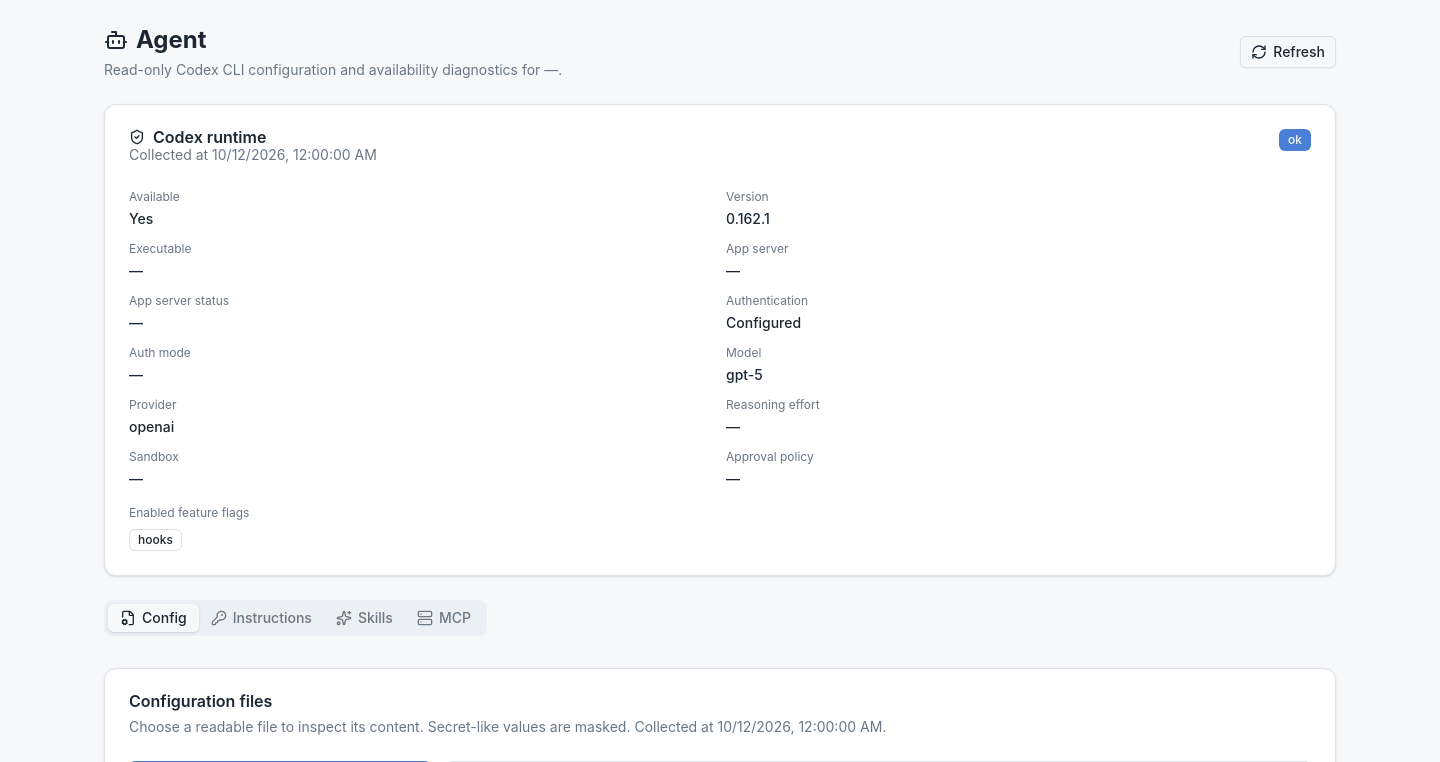
Scenario: CodexDiagnosticsPage › shows diagnostics and keeps MCP health explicitly unchecked
expect the text "0.162.1" is shown: met, box [726, 210, 770, 227]
expect the text "gpt-5" is shown: met, box [726, 366, 763, 383]
Click the tab "MCP" at (444, 618), box [405, 604, 483, 632]
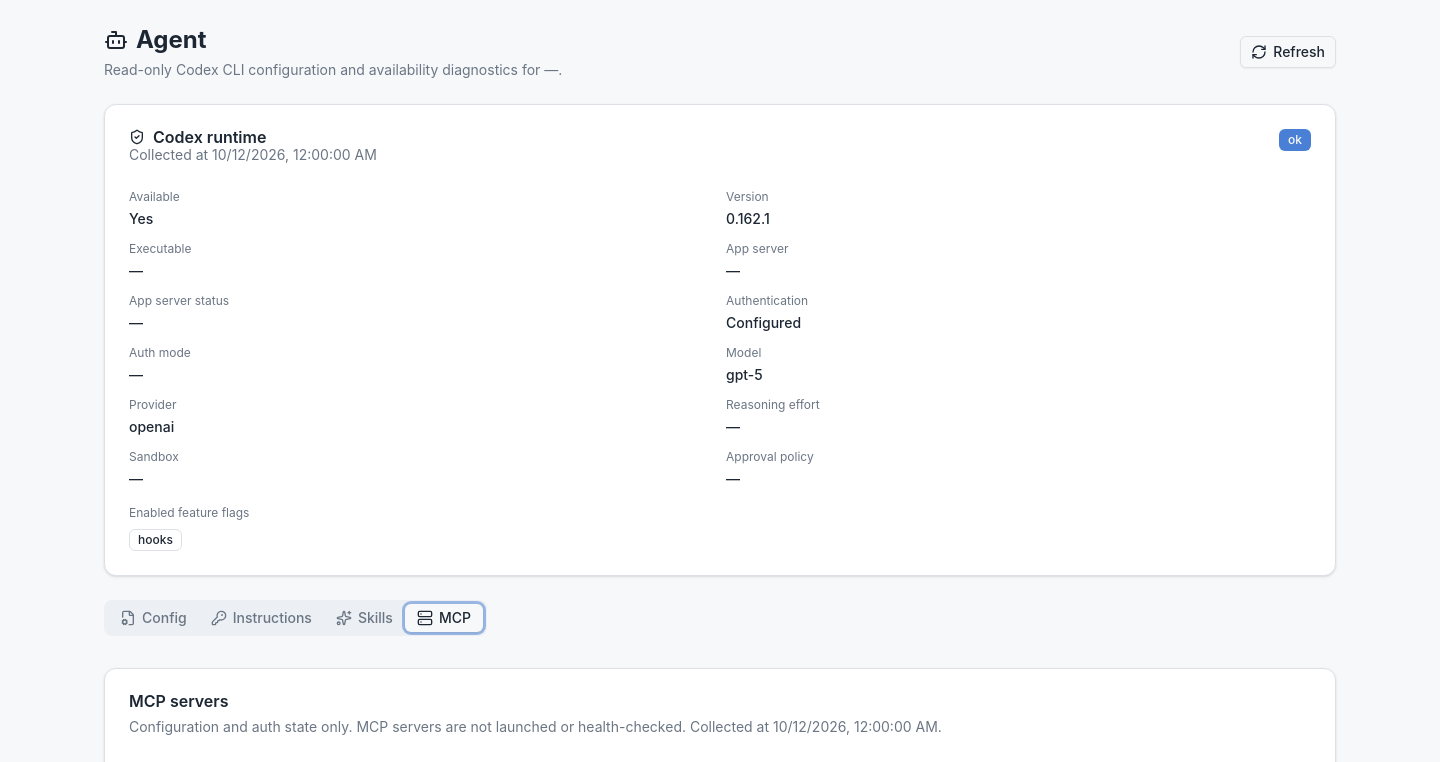
expect the text "not launched or health-checked" is shown: met, box [129, 718, 773, 735]
